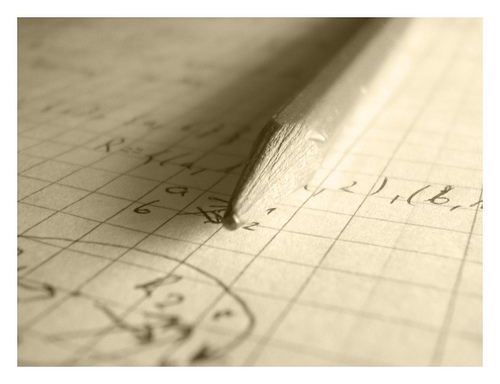pen_tip: (220, 104, 340, 246)
